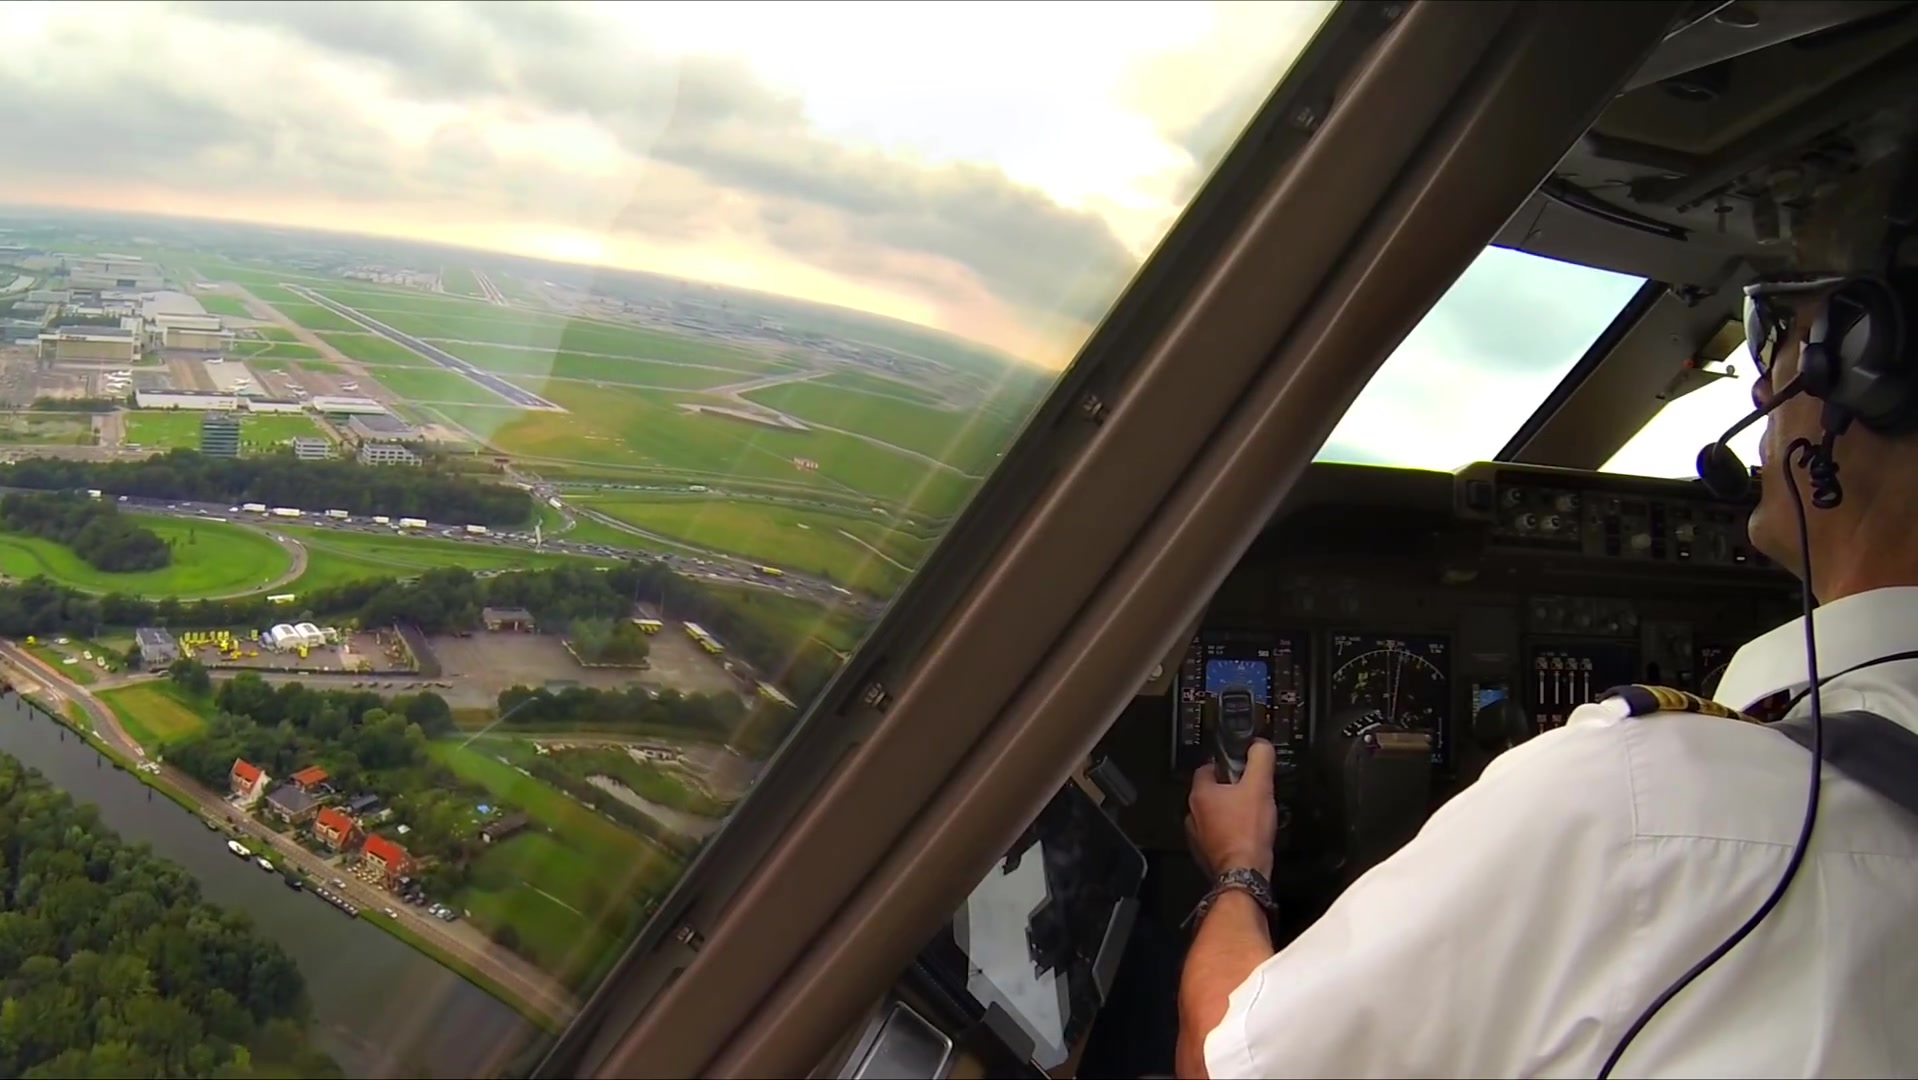runway: (266, 279, 574, 429), (457, 256, 514, 313)
